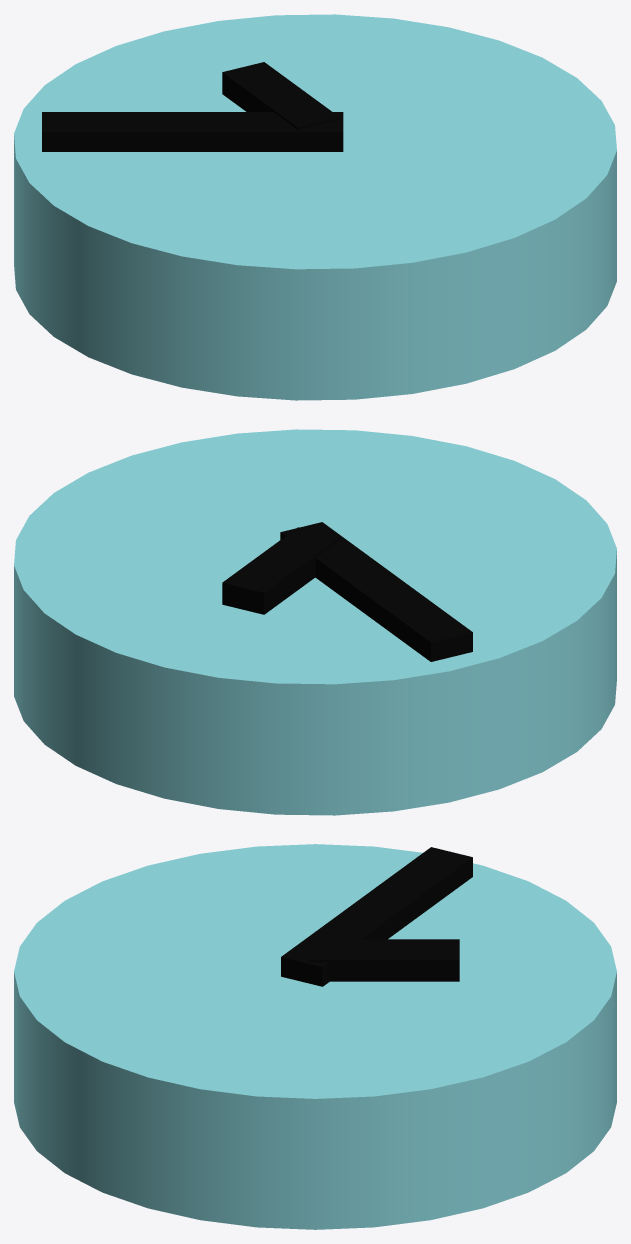
Rendered from clock.fbx.
The picture shows the model from 3 angles, top to bottom: view 1: azimuth 30°, elevation 25°; view 2: azimuth 150°, elevation 25°; view 3: azimuth 270°, elevation 25°; orthographic projection.
Visible parts, largest first — view 1: Cylinder, Cube.001, Cube; view 2: Cylinder, Cube.001, Cube; view 3: Cylinder, Cube.001, Cube.
Part boxes in pixels (box(x1,y1,x2,y2)): Cylinder: box(14, 14, 616, 400); Cube.001: box(42, 112, 343, 151); Cube: box(222, 62, 339, 129); Cylinder: box(14, 429, 616, 815); Cube.001: box(280, 522, 472, 661); Cube: box(222, 527, 339, 614); Cylinder: box(14, 844, 616, 1229); Cube.001: box(281, 847, 472, 986); Cube: box(308, 939, 459, 981).
Bounding box in the file's own units: 303 × 84.85 × 303.
